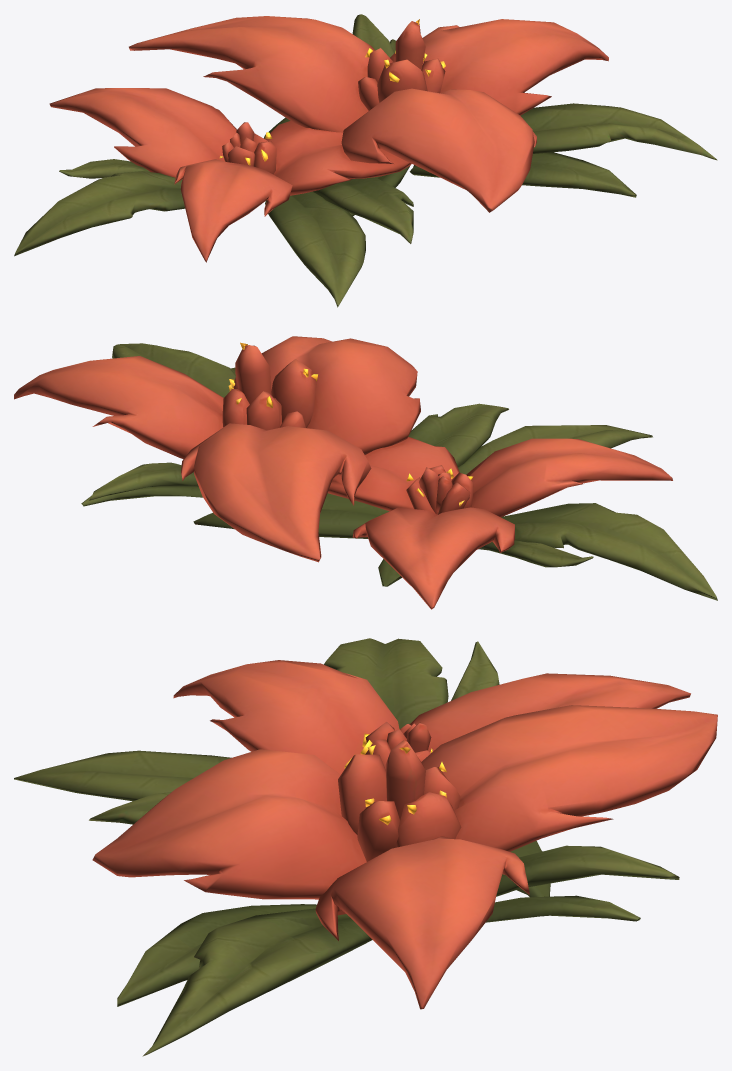
Rendered from bog_flower_b.glb.
3 views of the same model, one above another, from view 1: azimuth 30°, elevation 25°; view 2: azimuth 150°, elevation 25°; view 3: azimuth 270°, elevation 25° (orthographic). The views are drawn at different scales.
Visible parts, largest first — view 1: SM_XBOG_STS_BogFlower_01B; view 2: SM_XBOG_STS_BogFlower_01B; view 3: SM_XBOG_STS_BogFlower_01B.
Part boxes in pixels (left/top/right/bottom): SM_XBOG_STS_BogFlower_01B: left=14, top=14, right=717, bottom=307; SM_XBOG_STS_BogFlower_01B: left=14, top=336, right=717, bottom=609; SM_XBOG_STS_BogFlower_01B: left=14, top=638, right=717, bottom=1056.
Size of the model in its own units: 2.47 by 0.5227 by 1.74.
Materials: 1 (1 with a texture image).
